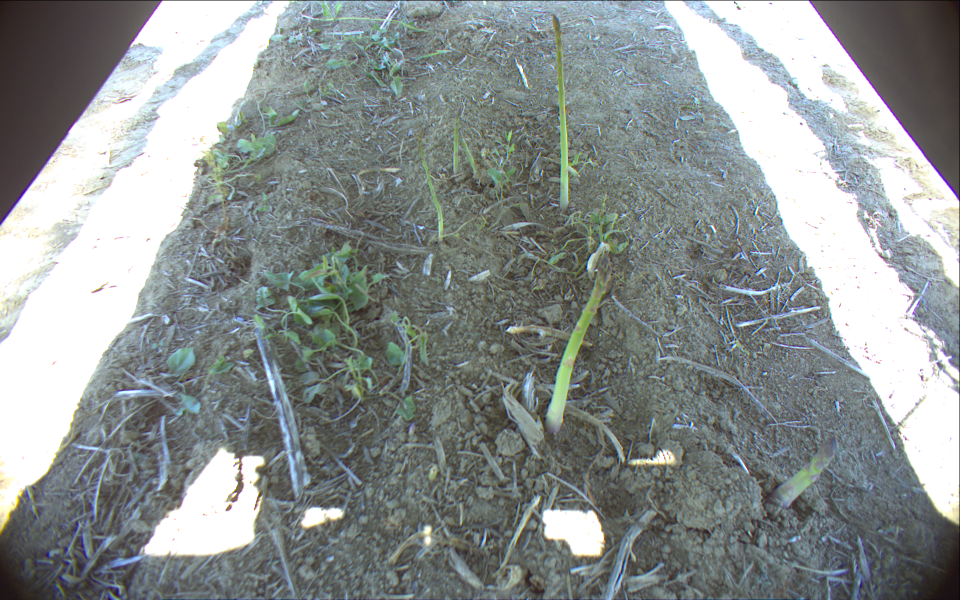aspa: (542, 250, 617, 436), (547, 12, 573, 212)
